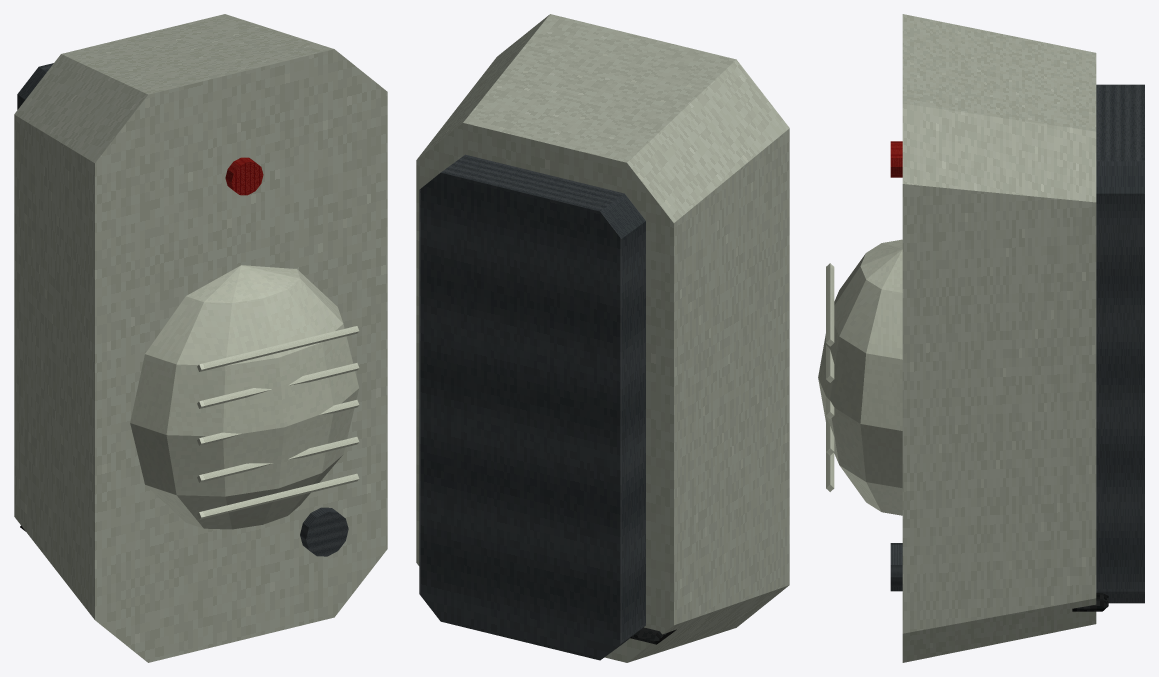
The model's file is blender_motion_sensor_2.glb.
3 renders of one model, left to right at view 1: azimuth 30°, elevation 25°; view 2: azimuth 150°, elevation 25°; view 3: azimuth 270°, elevation 25°, orthographic.
Visible parts, largest first — view 1: blender_motion_sensor_2; view 2: blender_motion_sensor_2; view 3: blender_motion_sensor_2.
Part boxes in pixels (box(x1,y1,x2,y2)): blender_motion_sensor_2: box(14, 14, 387, 662); blender_motion_sensor_2: box(416, 14, 789, 662); blender_motion_sensor_2: box(818, 14, 1144, 662).
Bounding box in the file's own units: 0.055 × 0.102 × 0.054.
5 materials, 5 textured.
